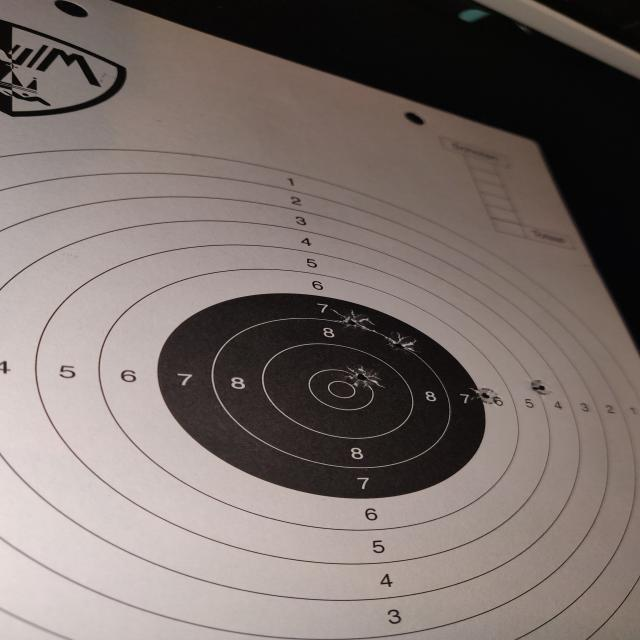10: (342, 364, 386, 388)
5: (526, 378, 555, 396)
7: (468, 386, 502, 405)
8: (330, 308, 378, 333), (383, 330, 422, 354)
Target: (0, 147, 640, 640)
black_contour: (157, 291, 488, 499)
